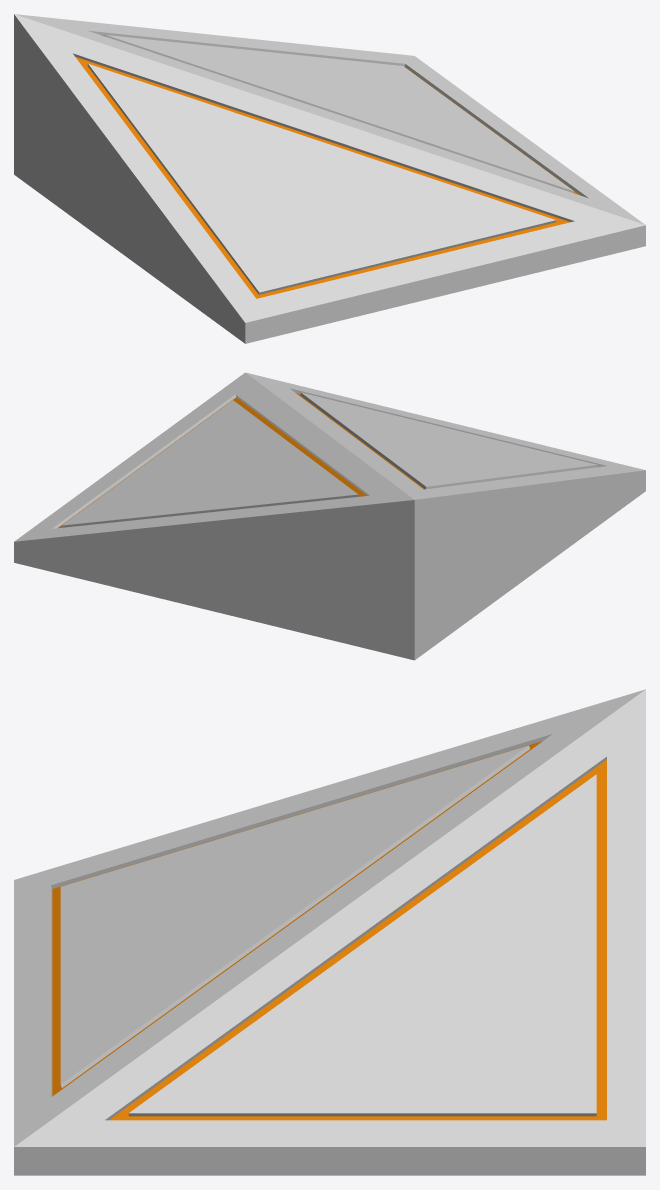
File: SM_Pente_C.glb
The picture shows the model from 3 angles, top to bottom: view 1: azimuth 30°, elevation 25°; view 2: azimuth 150°, elevation 25°; view 3: azimuth 270°, elevation 25°; orthographic projection. The views are drawn at different scales.
Visible parts, largest first — view 1: SM_Pente_C; view 2: SM_Pente_C; view 3: SM_Pente_C.
Boxes of the visible parts, x1=… form: SM_Pente_C: x1=14, y1=14, x2=645, y2=343; SM_Pente_C: x1=14, y1=372, x2=645, y2=660; SM_Pente_C: x1=14, y1=689, x2=645, y2=1175.
Bounding box in the file's own units: 4 × 1.53 × 4.
